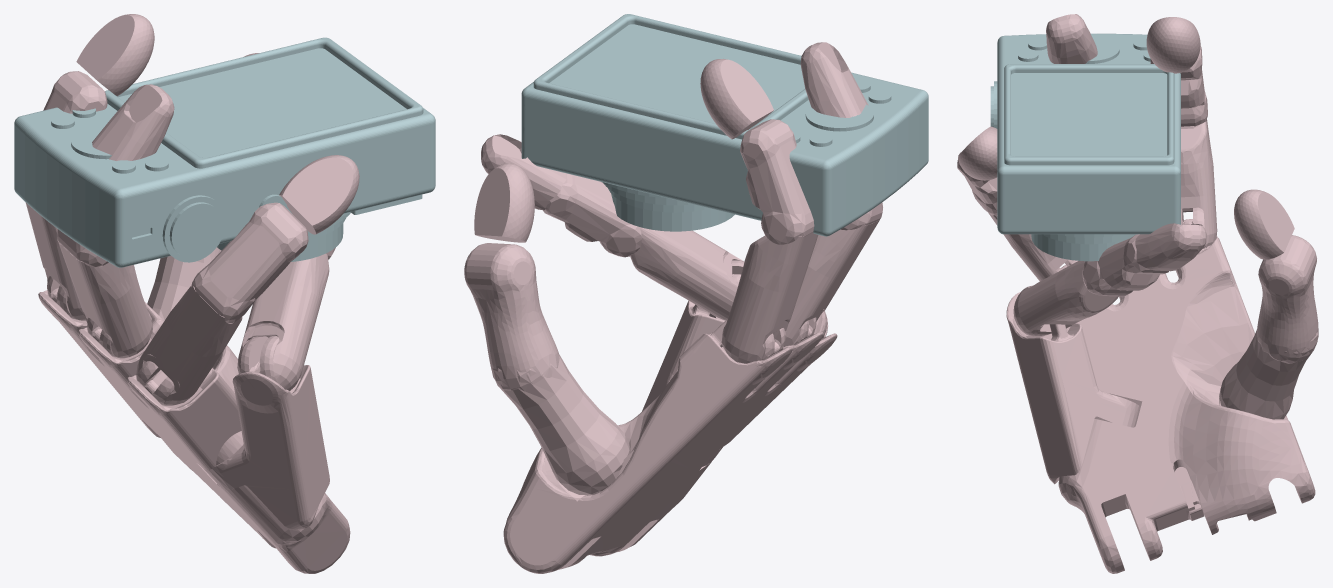
The model's file is grasp_3.glb.
The picture shows the model from 3 angles, left to right: view 1: azimuth 30°, elevation 25°; view 2: azimuth 150°, elevation 25°; view 3: azimuth 270°, elevation 25°; orthographic projection. The views are drawn at different scales.
Visible parts, largest first — view 1: world; view 2: world; view 3: world.
Part boxes in pixels (bbox=[...]): world: bbox=[14, 14, 435, 573]; world: bbox=[464, 14, 928, 573]; world: bbox=[957, 14, 1318, 573].
Bounding box in the file's own units: 0.1271 × 0.191 × 0.1275.
